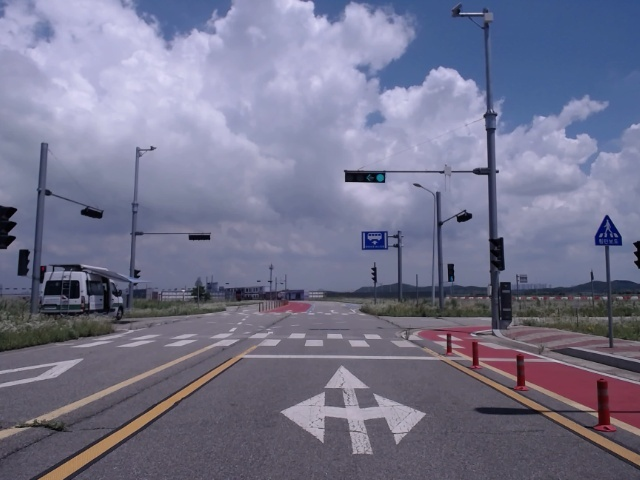all_green_4: (344, 170, 382, 183)
